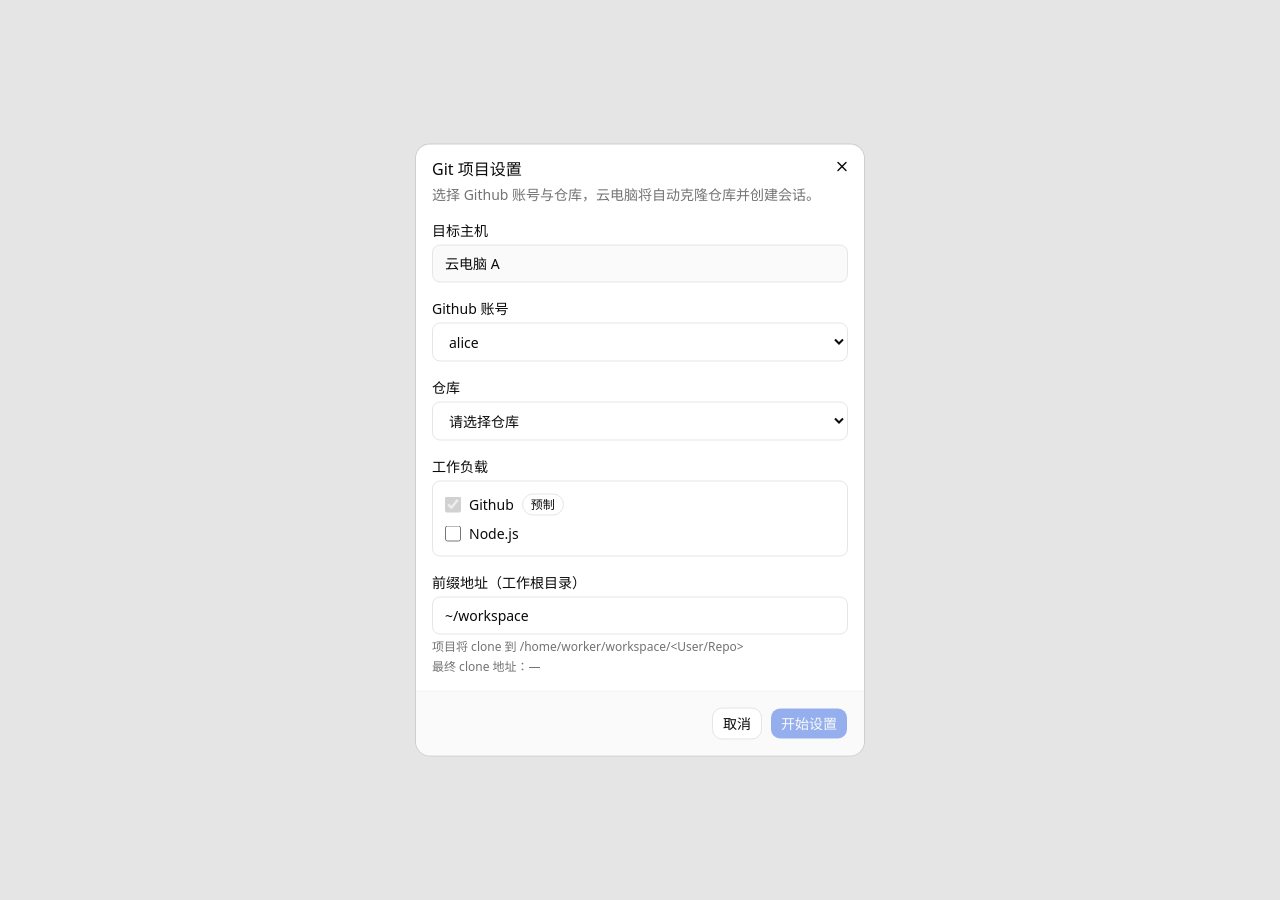
GithubProjectSetupDialog › 无默认工作区时预填 ~/workspace，且可直接提交
Expected: the field labelled "前缀地址" holds "~/workspace", [432, 596, 848, 634]
Expected: the dropdown labelled "Github 账号" shows "alice", [432, 322, 848, 362]
Select "alice/repo-a" in the dropdown labelled "仓库" at (640, 421), box [432, 402, 848, 440]
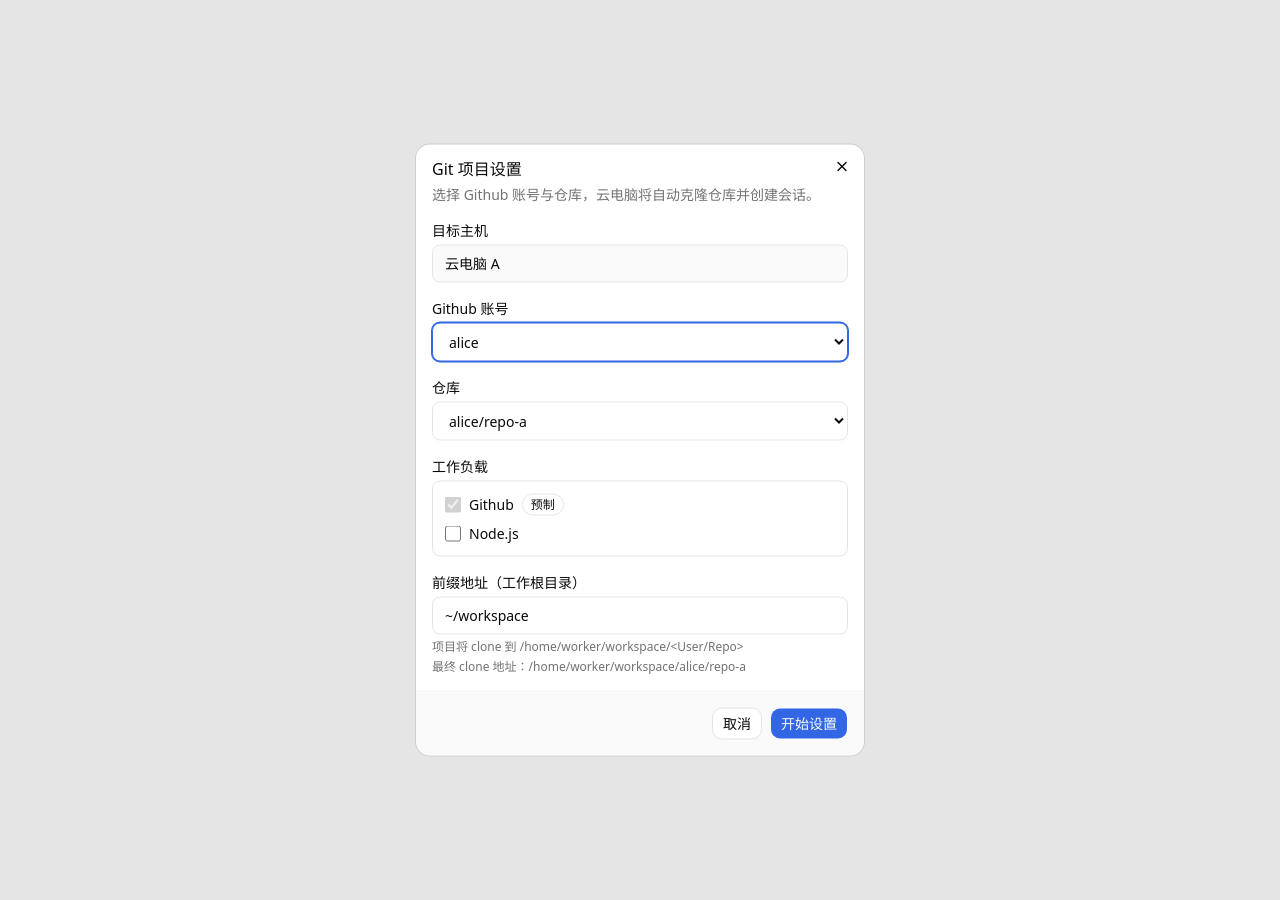
Result: the text "最终 clone 地址：/home/worker/workspace/alice/repo-a" is shown at [432, 658, 746, 674]
Result: the button "开始设置" is enabled at [770, 708, 848, 740]
